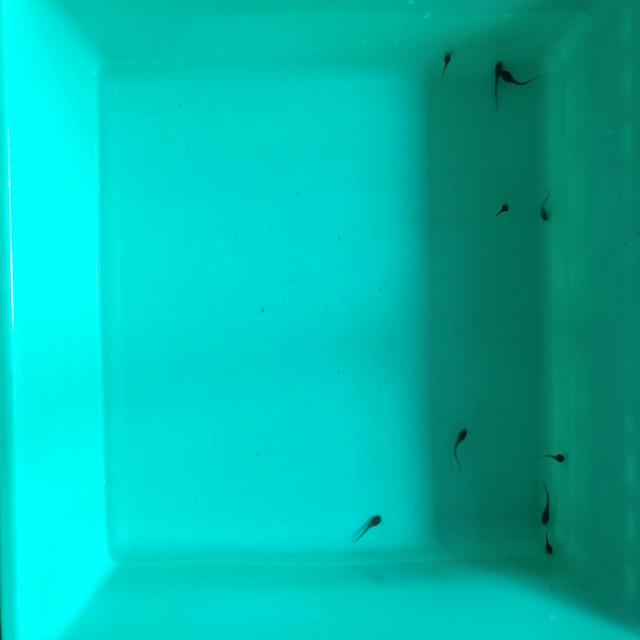lele: (349, 508, 386, 547), (455, 426, 469, 470), (502, 70, 540, 85), (539, 480, 551, 526), (494, 59, 503, 109), (541, 190, 551, 224), (541, 451, 565, 463), (442, 52, 452, 80), (544, 528, 554, 556), (488, 204, 511, 216)
